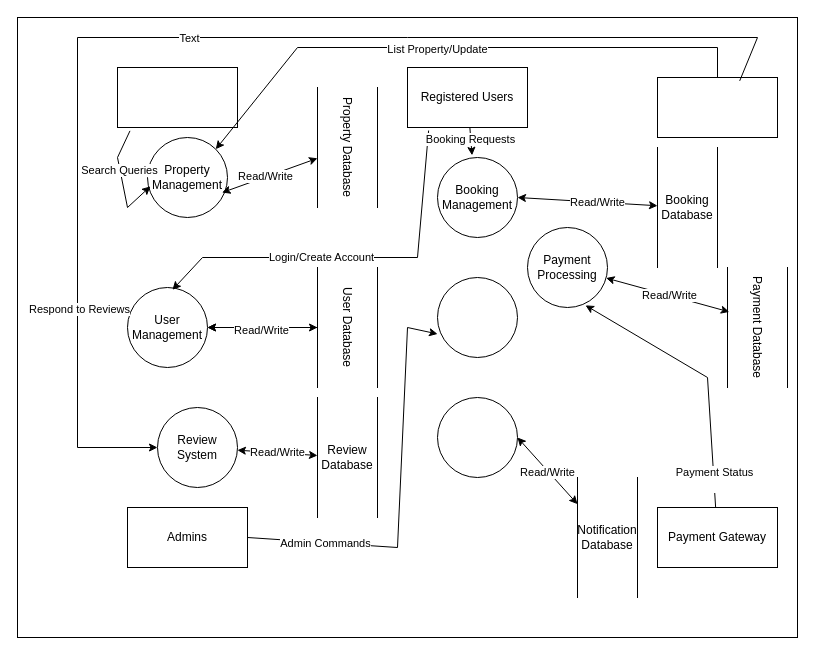
Image size: 815x655. Some labels were removed from this diagram. The shapes that lost their labels are listed below. From the top down, each one's centre as x and y in pixels, then its label:
At (177,97): "Guest Users".
At (717,107): "Hosts".
At (477,317): "Admin function".
At (477,437): "Notification System".
